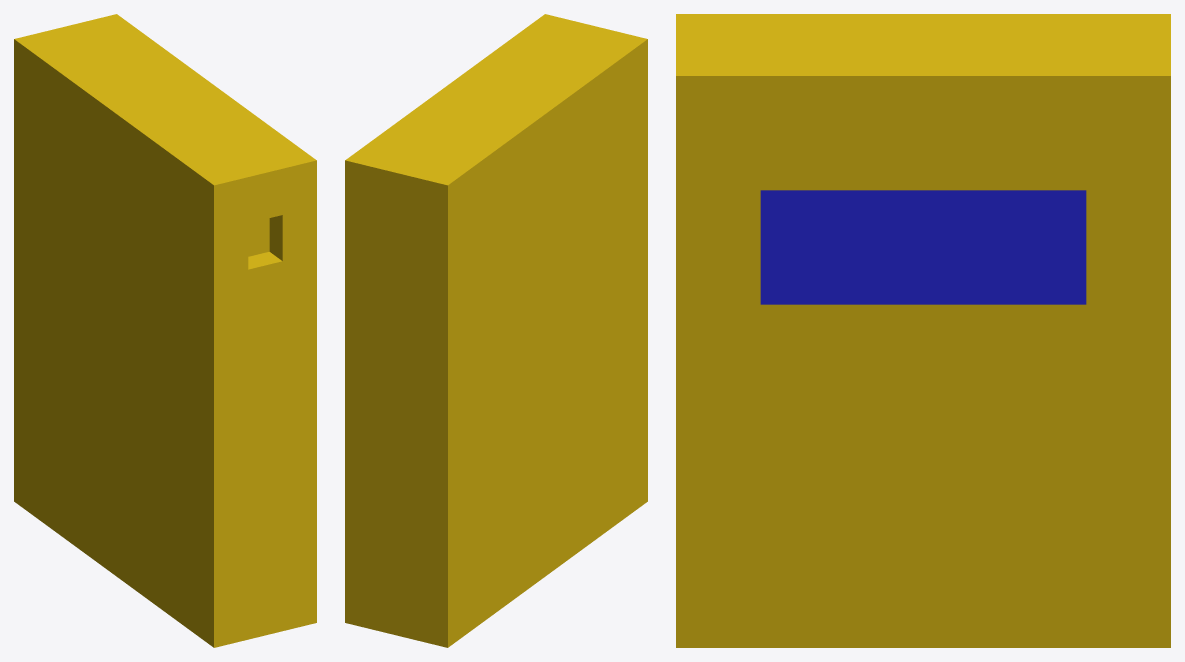
File: WheatBox.dae
3 renders of one model, left to right at view 1: azimuth 30°, elevation 25°; view 2: azimuth 150°, elevation 25°; view 3: azimuth 270°, elevation 25°, orthographic. The views are drawn at different scales.
Parts seen in each view (by area): view 1: Cube.001; view 2: Cube.001; view 3: Cube.001.
Part boxes in pixels (x1,y1,x2,y2): Cube.001: (14,14,316,647); Cube.001: (345,14,647,647); Cube.001: (676,14,1170,647).
Size of the model in its own units: 0.043 by 0.145 by 0.185.
